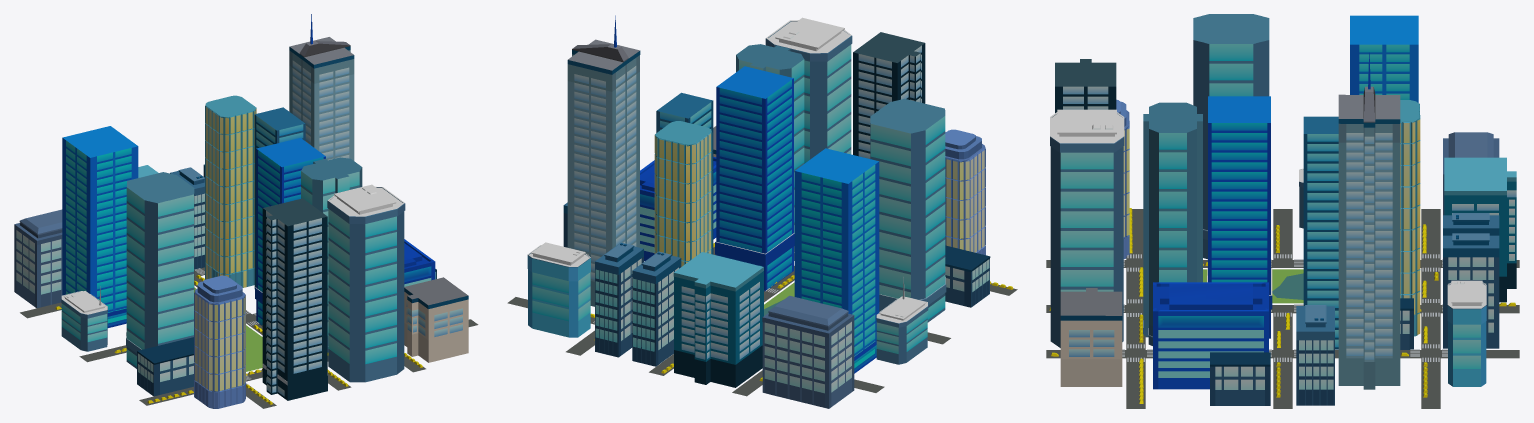
3 renders of one model, left to right at view 1: azimuth 30°, elevation 25°; view 2: azimuth 150°, elevation 25°; view 3: azimuth 270°, elevation 25°, orthographic. The views are drawn at different scales.
Visible parts, largest first — view 1: Cube.352, buildingM, street, buildingRoof, Plane.009; view 2: Cube.352, buildingM, buildingRoof, street; view 3: Cube.352, buildingM, street, base.040, Plane.009.
Part boxes in pixels (x1=…): Cube.352: x1=14, y1=14, x2=468, y2=408; buildingM: x1=62, y1=95, x2=327, y2=399; street: x1=20, y1=267, x2=478, y2=408; buildingRoof: x1=107, y1=266, x2=328, y2=400; Plane.009: x1=194, y1=287, x2=262, y2=371; Cube.352: x1=527, y1=15, x2=990, y2=408; buildingM: x1=655, y1=32, x2=924, y2=356; buildingRoof: x1=715, y1=233, x2=946, y2=373; street: x1=507, y1=243, x2=1017, y2=396; Cube.352: x1=1050, y1=14, x2=1516, y2=405; buildingM: x1=1055, y1=18, x2=1420, y2=349; street: x1=1046, y1=209, x2=1519, y2=408; base.040: x1=1122, y1=254, x2=1447, y2=361; Plane.009: x1=1203, y1=269, x2=1303, y2=303.
Bounding box in the file's own units: 1 × 0.7395 × 1.
